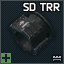MP5SD B&T tri-rail ring mount: (0, 0, 64, 64)
